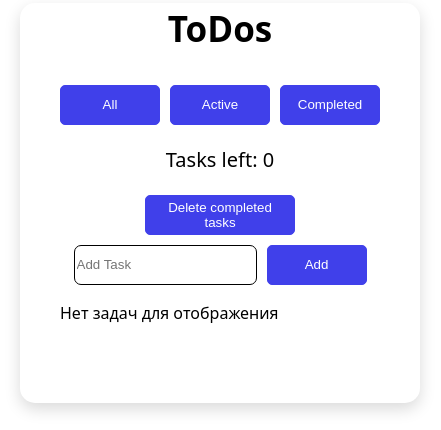
Test: App › добавляет задачу
This screenshot has width=441, height=430.
Type "Test task" into the field with placeholder "Add Task" at x=165, y=265, box [74,245,256,285]
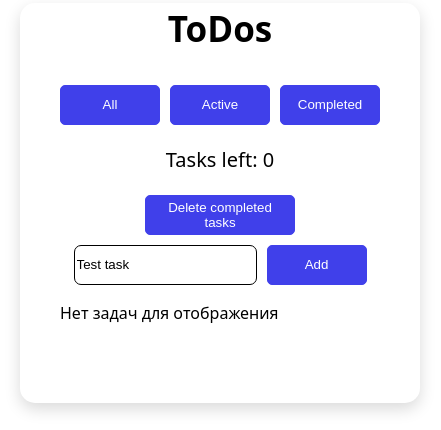
Click the button "Add" at x=316, y=265, box [266,245,366,285]
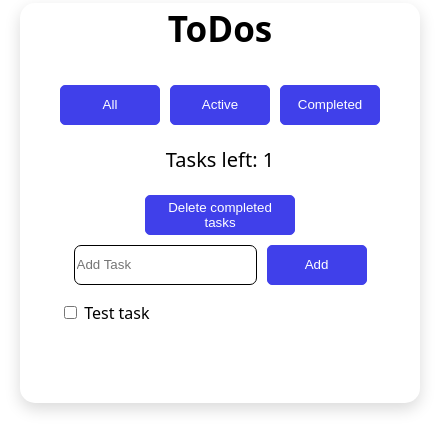
Now the text "Test task" is shown, box [60,302,150,324]
